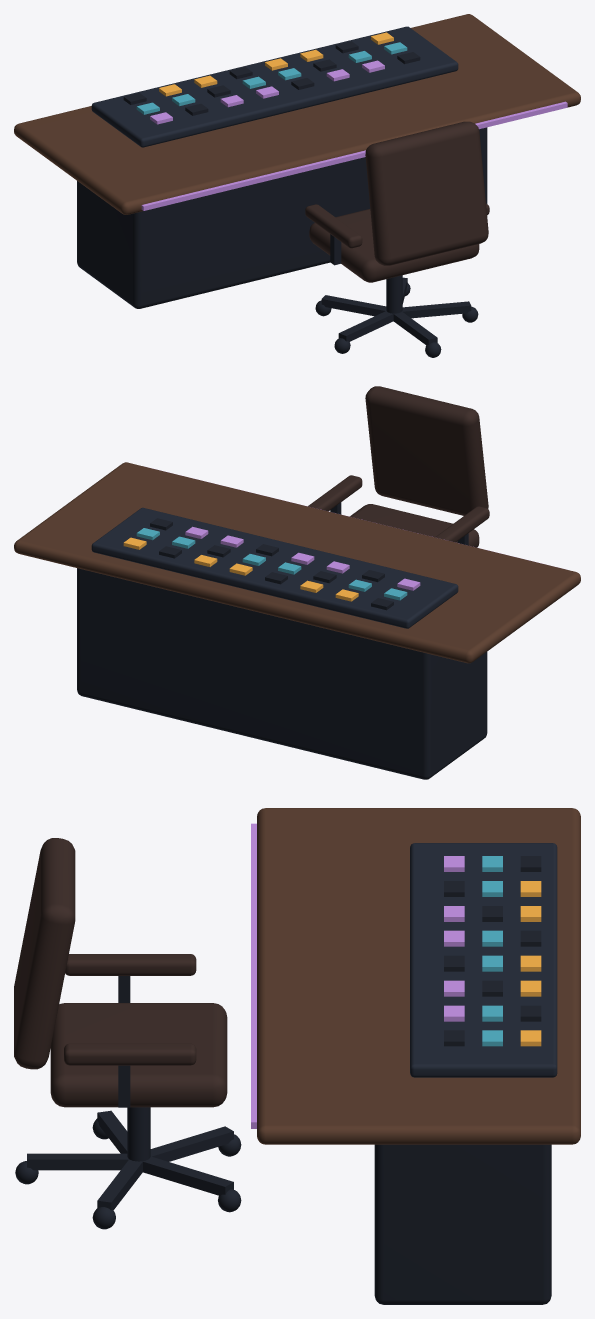
The model's file is console.glb.
The picture shows the model from 3 angles, top to bottom: view 1: azimuth 30°, elevation 25°; view 2: azimuth 150°, elevation 25°; view 3: azimuth 270°, elevation 25°; orthographic projection. The views are drawn at different scales.
Parts seen in each view (by area): view 1: top, arm_post_-1, arm_-1, deck, button_2_0, button_1_0, button_0_1; view 2: arm_post_-1, top, arm_-1, deck, button_1_0, button_2_0, button_0_1; view 3: top, arm_post_-1, arm_-1, deck, button_2_0, button_1_0, button_0_1.
Part boxes in pixels (<box>): top: <box>14,14,580,214</box>; arm_post_-1: <box>77,41,487,357</box>; arm_-1: <box>305,121,489,282</box>; deck: <box>91,26,458,147</box>; button_2_0: <box>141,60,567,210</box>; button_1_0: <box>136,42,407,114</box>; button_0_1: <box>159,32,393,96</box>; arm_post_-1: <box>77,502,487,779</box>; top: <box>14,462,580,663</box>; arm_-1: <box>308,386,489,547</box>; deck: <box>91,507,458,628</box>; button_1_0: <box>136,528,407,600</box>; button_2_0: <box>153,468,556,590</box>; button_0_1: <box>123,537,358,601</box>; top: <box>257,808,580,1144</box>; arm_post_-1: <box>15,856,551,1304</box>; arm_-1: <box>14,838,227,1107</box>; deck: <box>410,843,557,1077</box>; button_2_0: <box>251,823,464,1128</box>; button_1_0: <box>482,856,502,1046</box>; button_0_1: <box>520,881,541,1046</box>.
Size of the model in its own units: 2.6 by 1.17 by 1.92.
